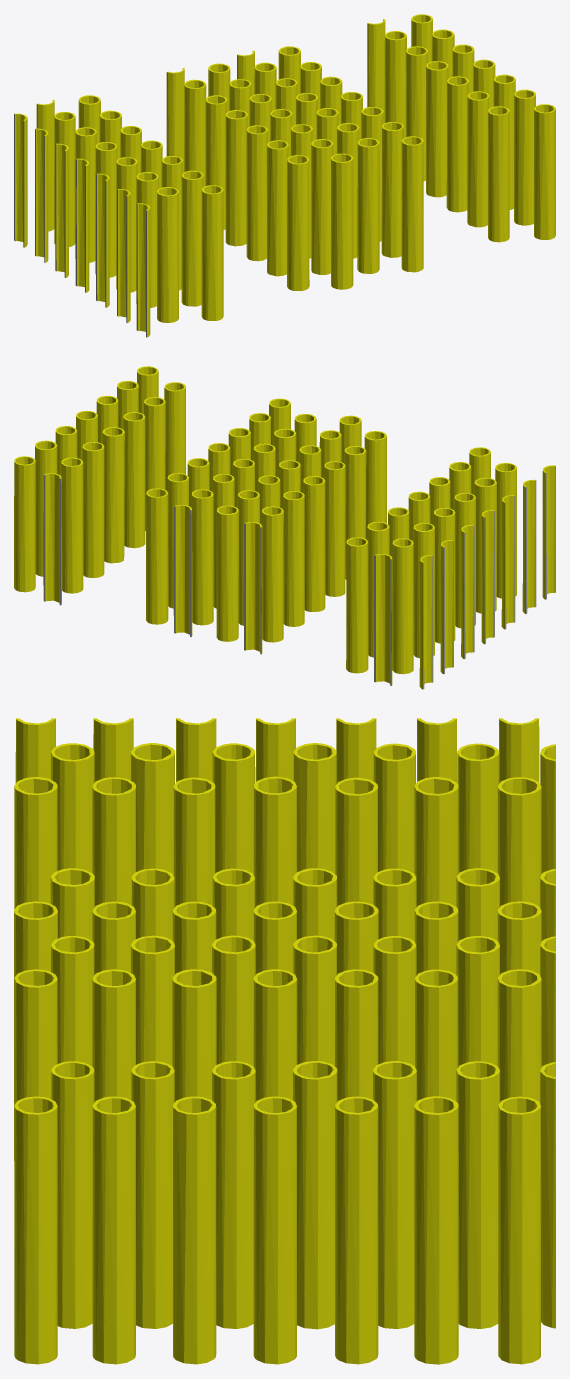
Rendered from OxideHoles.fbx.
3 renders of one model, top to bottom at view 1: azimuth 30°, elevation 25°; view 2: azimuth 150°, elevation 25°; view 3: azimuth 270°, elevation 25°, orthographic. The views are drawn at different scales.
Parts seen in each view (by area): view 1: OxideHoles; view 2: OxideHoles; view 3: OxideHoles.
Part boxes in pixels (bbox=[...]): OxideHoles: bbox=[14, 14, 555, 337]; OxideHoles: bbox=[14, 366, 555, 689]; OxideHoles: bbox=[14, 718, 555, 1364].
Size of the model in its own units: 2226 by 655 by 1286.
